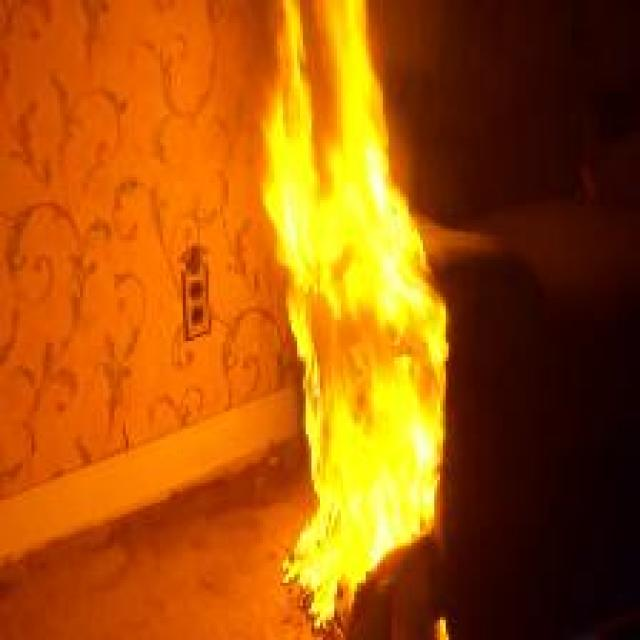fire: (247, 0, 462, 640)
